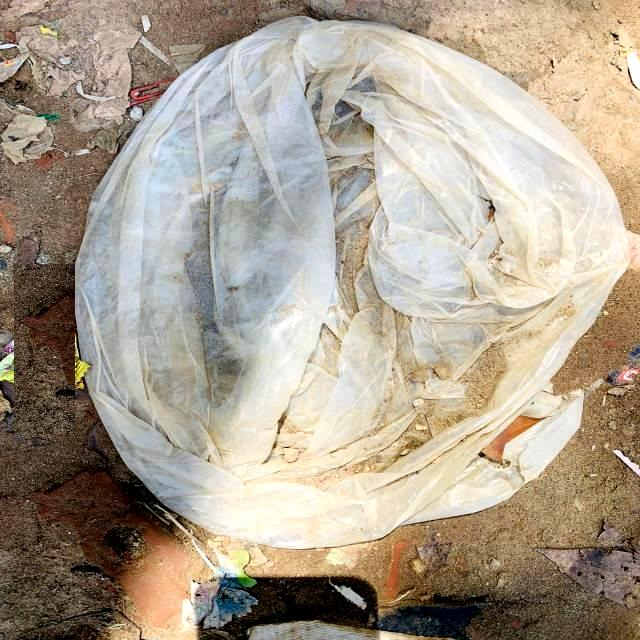polythene: (88, 14, 592, 559)
